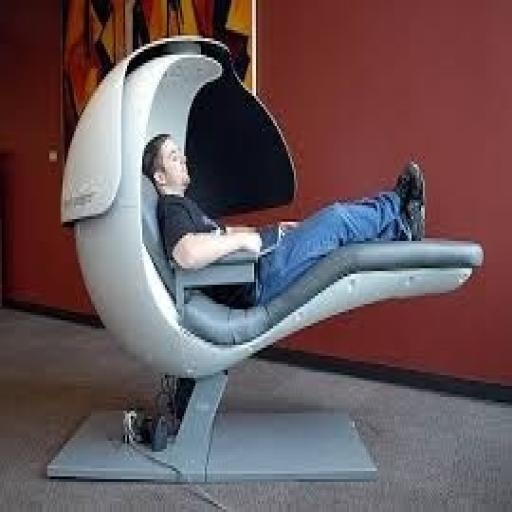sleeping: (140, 129, 428, 309)
